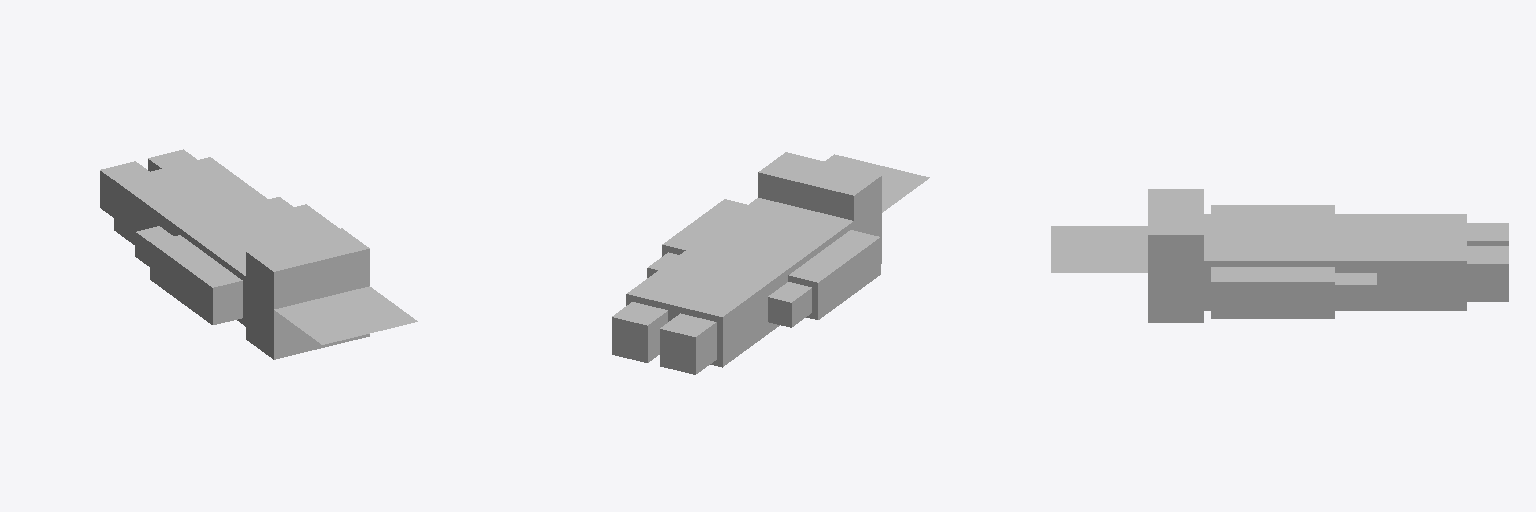
The model's file is snale.obj.
3 renders of one model, left to right at view 1: azimuth 30°, elevation 25°; view 2: azimuth 150°, elevation 25°; view 3: azimuth 270°, elevation 25°, orthographic.
Parts seen in each view (by area): view 1: Head, Torso, LeftSleeve, Eyestalks, LeftPant, RightPant, LeftLeg, RightSleeve, LeftArm, RightLeg; view 2: Torso, Head, LeftPant, LeftSleeve, RightPant, LeftLeg, RightLeg, Eyestalks, LeftArm, RightSleeve; view 3: Torso, Head, RightPant, RightSleeve, Eyestalks, LeftPant, RightLeg, RightArm, LeftSleeve, LeftLeg.
Part boxes in pixels (bbox=[...]): Head: bbox=[246, 228, 369, 359]; Torso: bbox=[170, 198, 315, 326]; LeftSleeve: bbox=[150, 235, 242, 324]; Eyestalks: bbox=[274, 286, 417, 344]; LeftPant: bbox=[114, 169, 216, 244]; RightPant: bbox=[163, 157, 265, 208]; LeftLeg: bbox=[100, 161, 149, 217]; RightSleeve: bbox=[284, 204, 339, 233]; LeftArm: bbox=[135, 226, 173, 266]; RightLeg: bbox=[148, 149, 196, 171]; Torso: bbox=[683, 198, 853, 326]; Head: bbox=[758, 152, 881, 263]; LeftPant: bbox=[674, 265, 777, 367]; LeftSleeve: bbox=[788, 230, 880, 319]; RightPant: bbox=[626, 253, 728, 321]; LeftLeg: bbox=[660, 313, 716, 374]; RightLeg: bbox=[612, 302, 667, 362]; Eyestalks: bbox=[824, 154, 929, 212]; LeftArm: bbox=[768, 282, 811, 327]; RightSleeve: bbox=[662, 199, 746, 256]; Torso: bbox=[1204, 214, 1355, 310]; Head: bbox=[1148, 189, 1203, 322]; RightPant: bbox=[1356, 237, 1466, 310]; RightSleeve: bbox=[1211, 267, 1334, 318]; Eyestalks: bbox=[1051, 226, 1147, 272]; LeftPant: bbox=[1356, 214, 1466, 236]; RightLeg: bbox=[1467, 246, 1508, 301]; RightArm: bbox=[1335, 273, 1376, 309]; LeftSleeve: bbox=[1211, 205, 1334, 213]; LeftLeg: bbox=[1467, 223, 1508, 245].
Bounding box in the file's own units: 0.8125 × 0.4375 × 2.06.